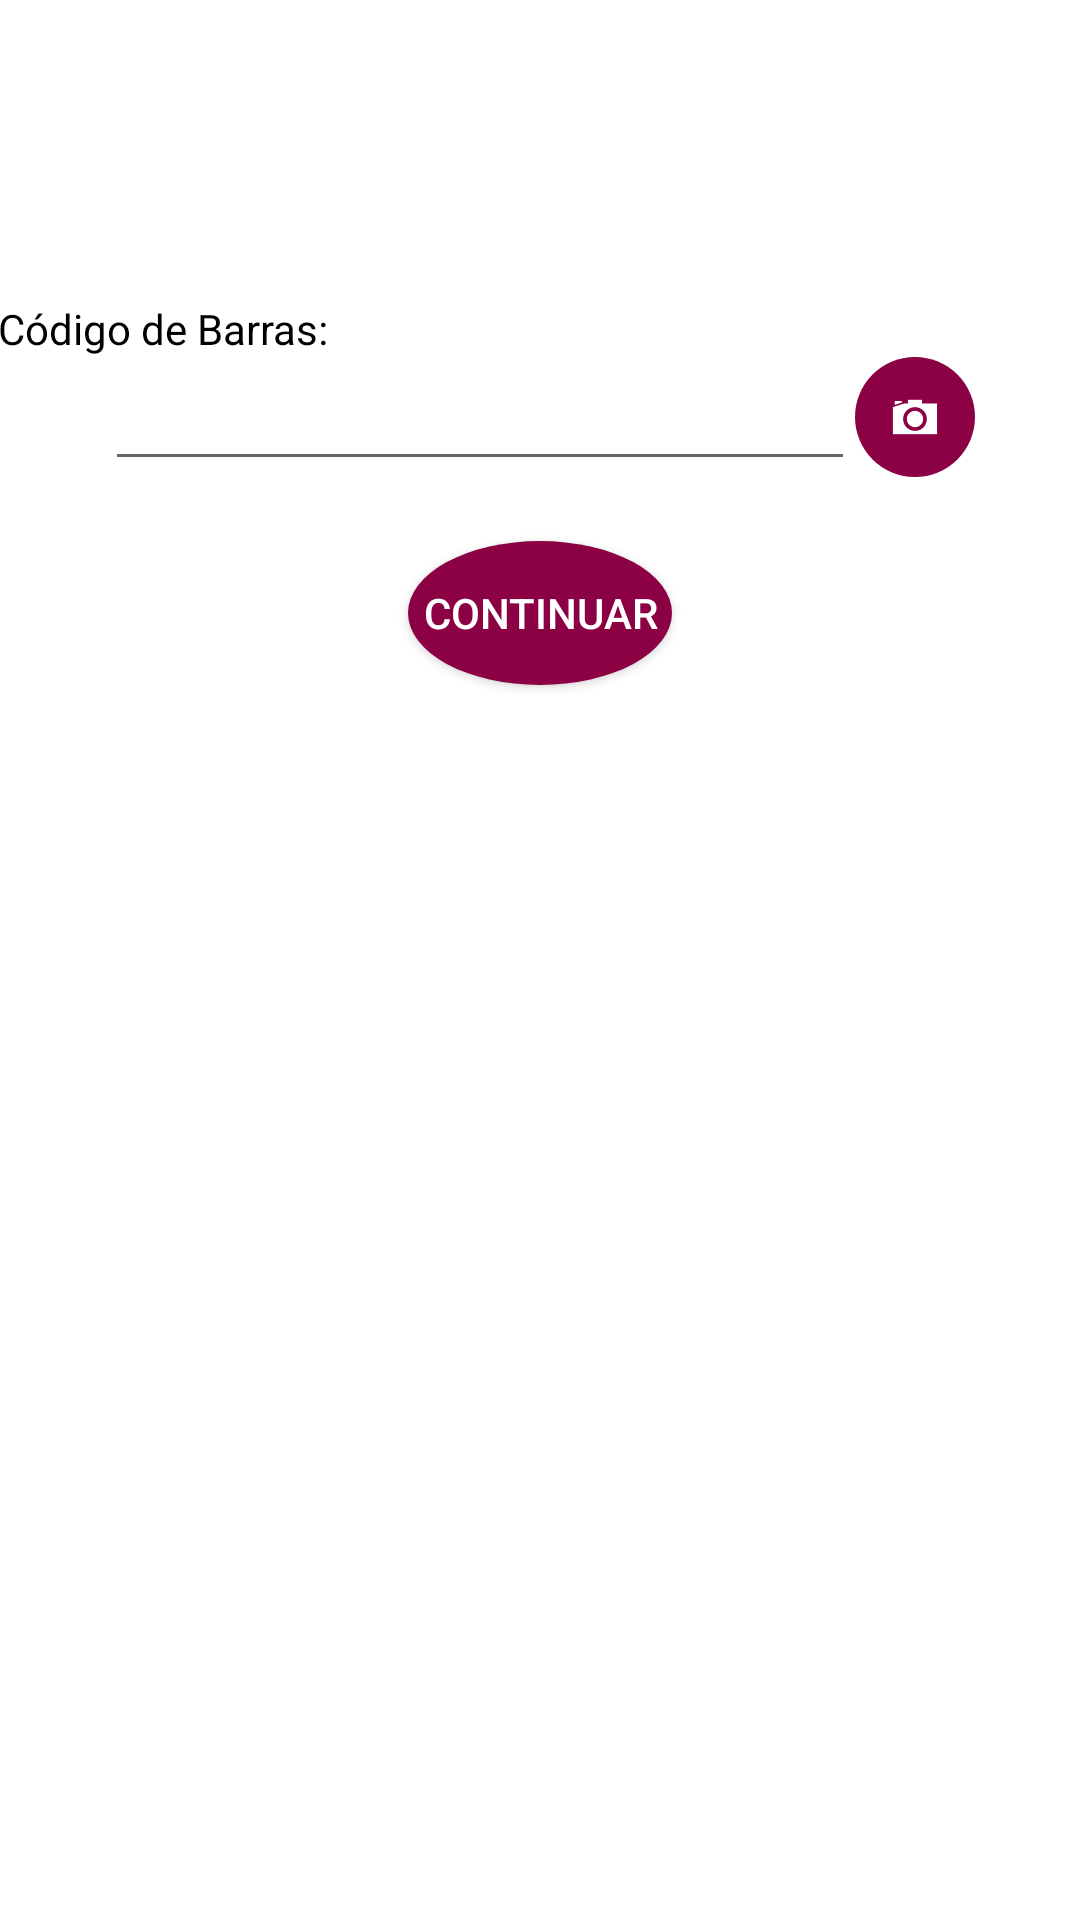

Screen size 1080 × 1920. Icon name, then its center in pixels as (x=x, y=y):
camera: (x=915, y=417)
